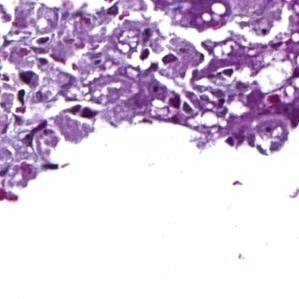inflammation: (10, 48, 60, 106)
